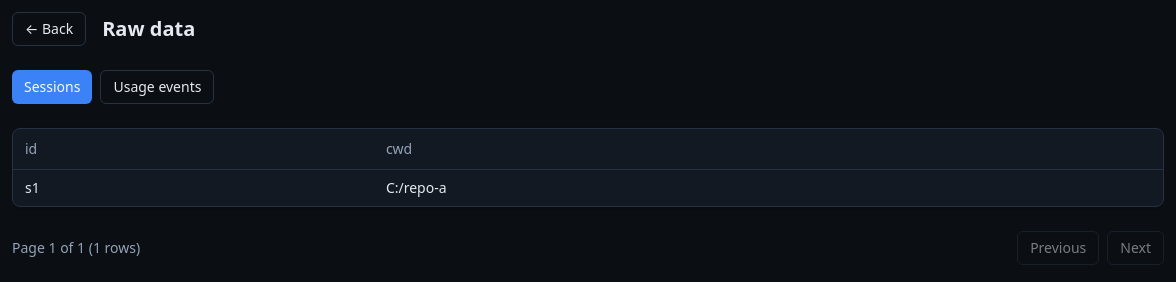
Test: RawDataPage › switches to the usage events table when its tab is clicked
Check: the text "s1" is shown, box [13,169,374,206]
Click the button "Usage events": [157, 87] box [100,70,214,104]
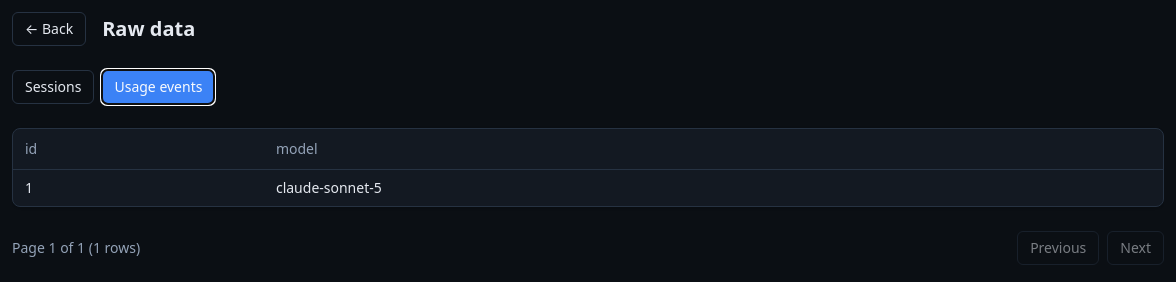
Check: the text "claude-sonnet-5" is shown, box [264,169,1163,206]
